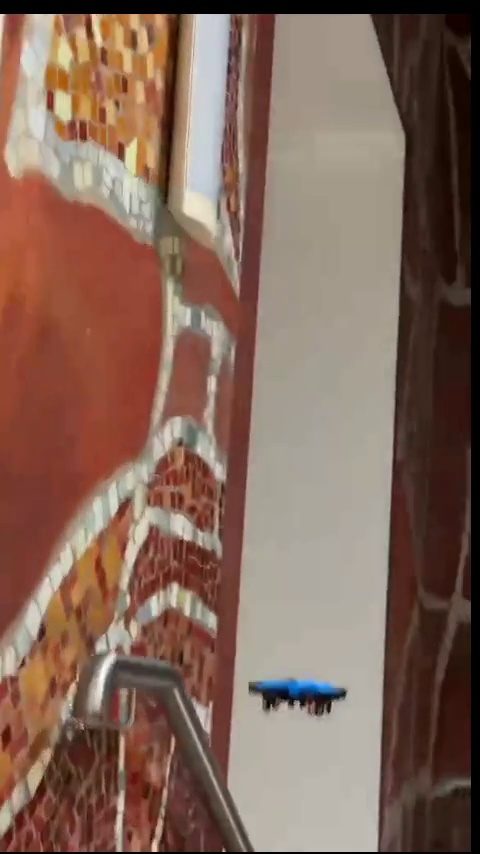drone: (244, 680, 348, 720)
